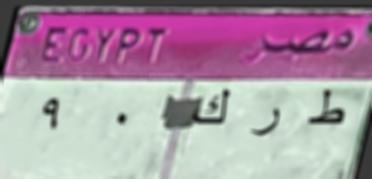0: (107, 101, 134, 134)
9: (37, 93, 66, 137)
Taa: (305, 86, 347, 137)
kaaf: (190, 82, 232, 133)
raa: (246, 99, 284, 145)
